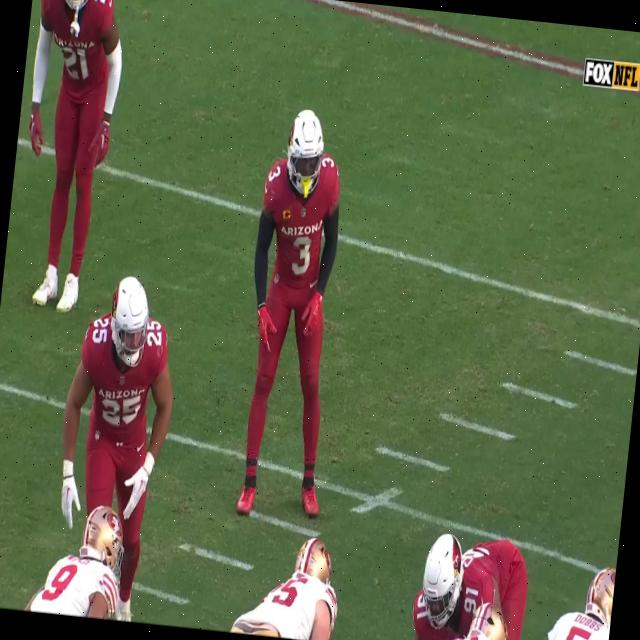Player: (226, 105, 356, 528), (7, 0, 131, 310), (64, 271, 175, 514), (214, 519, 362, 640), (408, 508, 541, 628), (28, 502, 128, 620), (541, 537, 618, 640)
